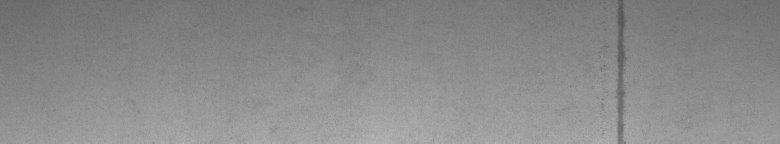hd: (600, 4, 629, 136)
